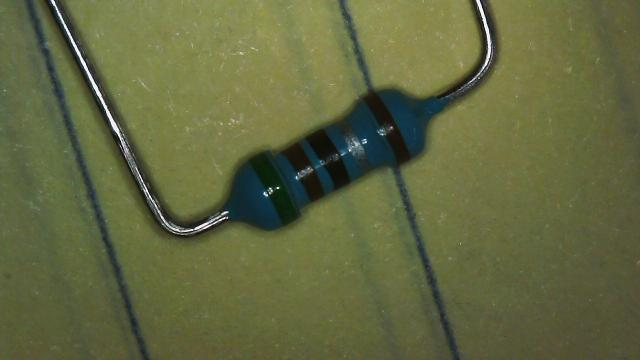black: (308, 129, 350, 189)
brown: (364, 92, 412, 165), (284, 143, 324, 201)
green: (249, 153, 296, 224)
resistor: (216, 81, 448, 240)
silver: (338, 118, 371, 174)
